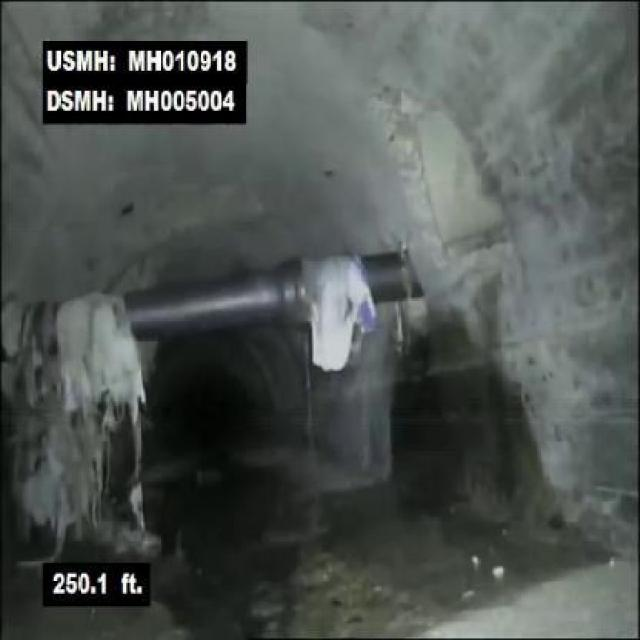Utility intrusion: (3, 246, 431, 363)
